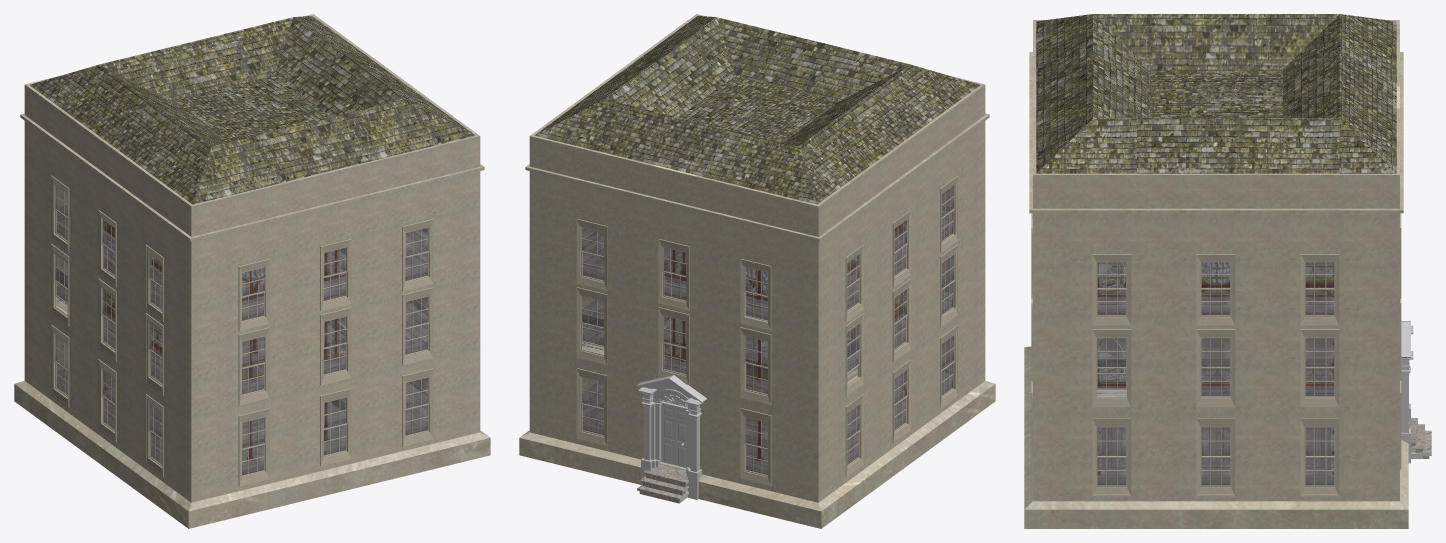
File: armskingredoo.fbx
3 views of the same model, side by side, from view 1: azimuth 30°, elevation 25°; view 2: azimuth 150°, elevation 25°; view 3: azimuth 270°, elevation 25° (orthographic). The views are drawn at different scales.
Visible parts, largest first — view 1: walls_doorway_Cube_005, floor_roof, windows_4_Cube_005, ground_floor_Cube_013, mid_floor_002_Plane_002, mid_floor_001_Plane_001, arches_Plane, walls_001_doorway_Cube_001; view 2: walls_doorway_Cube_005, floor_roof, windows_4_Cube_005, doorway_Cube_000, ground_floor_Cube_013, mid_floor_002_Plane_002, mid_floor_001_Plane_001, arches_Plane, walls_001_doorway_Cube_001; view 3: walls_doorway_Cube_005, floor_roof, windows_4_Cube_005, ground_floor_Cube_013, mid_floor_001_Plane_001, mid_floor_002_Plane_002, doorway_Cube_000, staires_Plane_006, arches_Plane, Plane_Plane_002.
Part boxes in pixels (x1,y1,x2,y2): walls_doorway_Cube_005: (20,14,484,502); floor_roof: (14,16,490,528); windows_4_Cube_005: (51,175,433,486); ground_floor_Cube_013: (57,324,427,474); mid_floor_002_Plane_002: (57,210,427,320); mid_floor_001_Plane_001: (57,250,427,394); arches_Plane: (105,225,345,460); walls_001_doorway_Cube_001: (57,187,427,391); walls_doorway_Cube_005: (525,14,989,502); floor_roof: (519,16,995,528); windows_4_Cube_005: (576,176,958,485); doorway_Cube_000: (636,375,706,499); ground_floor_Cube_013: (582,322,951,474); mid_floor_002_Plane_002: (582,210,951,319); mid_floor_001_Plane_001: (582,250,951,393); arches_Plane: (665,225,904,460); walls_001_doorway_Cube_001: (582,165,951,391); walls_doorway_Cube_005: (1029,20,1403,501); floor_roof: (1024,14,1431,528); windows_4_Cube_005: (1031,213,1401,496); ground_floor_Cube_013: (1098,348,1333,484); mid_floor_001_Plane_001: (1096,262,1333,396); mid_floor_002_Plane_002: (1098,297,1333,314); doorway_Cube_000: (1401,321,1413,463); staires_Plane_006: (1098,262,1125,454); arches_Plane: (1098,273,1333,474); Plane_Plane_002: (1098,262,1333,382).
Size of the model in its own units: 1600 by 1755 by 1696.
